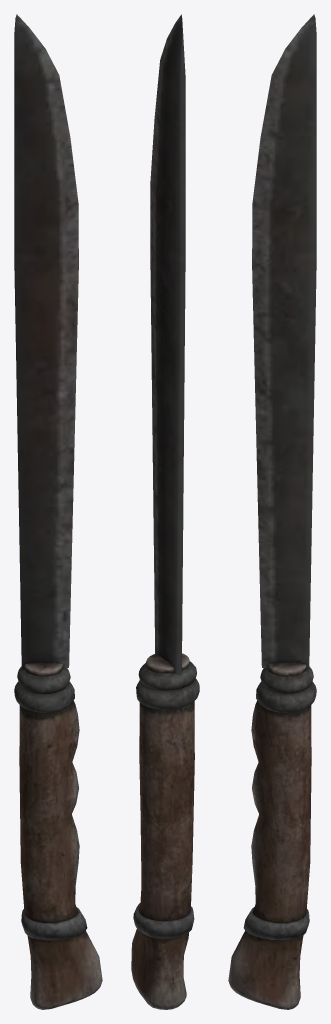
The model's file is machete.glb.
3 views of the same model, side by side, from view 1: azimuth 90°, elevation 25°; view 2: azimuth 210°, elevation 25°; view 3: azimuth 270°, elevation 25° (orthographic).
Parts seen in each view (by area): view 1: machete; view 2: machete; view 3: machete.
Part boxes in pixels (bbox=[...]): machete: bbox=[14, 14, 102, 1009]; machete: bbox=[131, 14, 199, 1009]; machete: bbox=[228, 14, 316, 1009].
Size of the model in its own units: 0.0444 by 0.7548 by 0.0609.
1 material, 1 textured.
